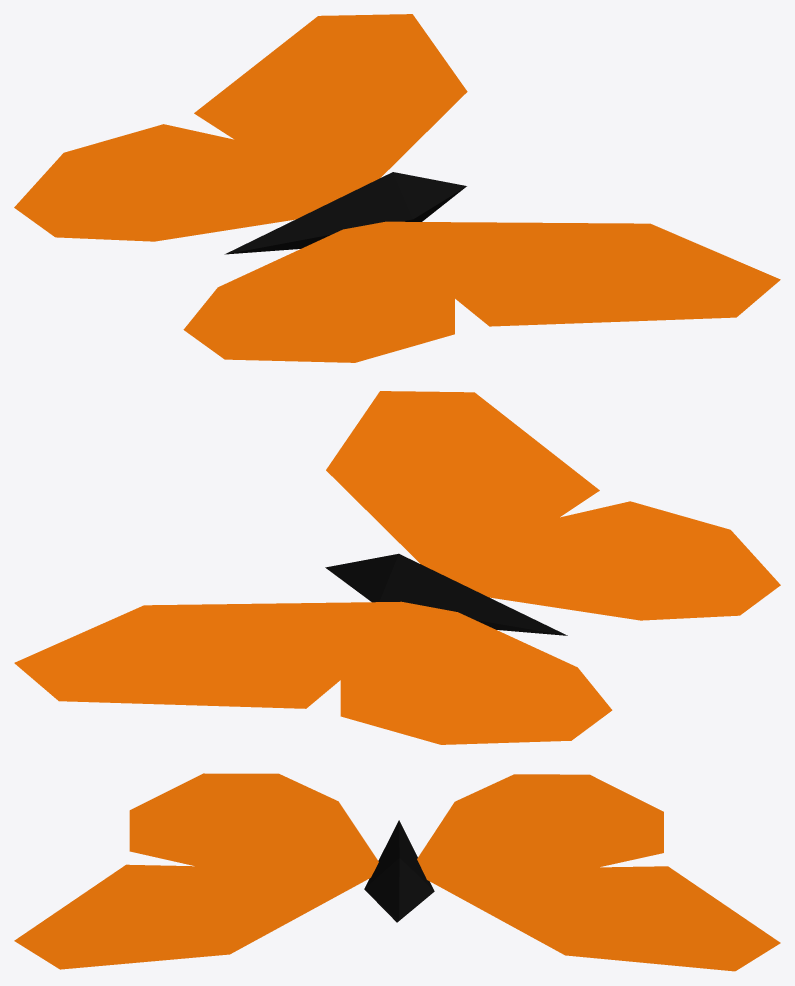
Rendered from butterfly2.obj.
The picture shows the model from 3 angles, top to bottom: view 1: azimuth 30°, elevation 25°; view 2: azimuth 150°, elevation 25°; view 3: azimuth 270°, elevation 25°; orthographic projection. The views are drawn at different scales.
Size of the model in its own units: 0.8449 by 0.1171 by 1.27.
